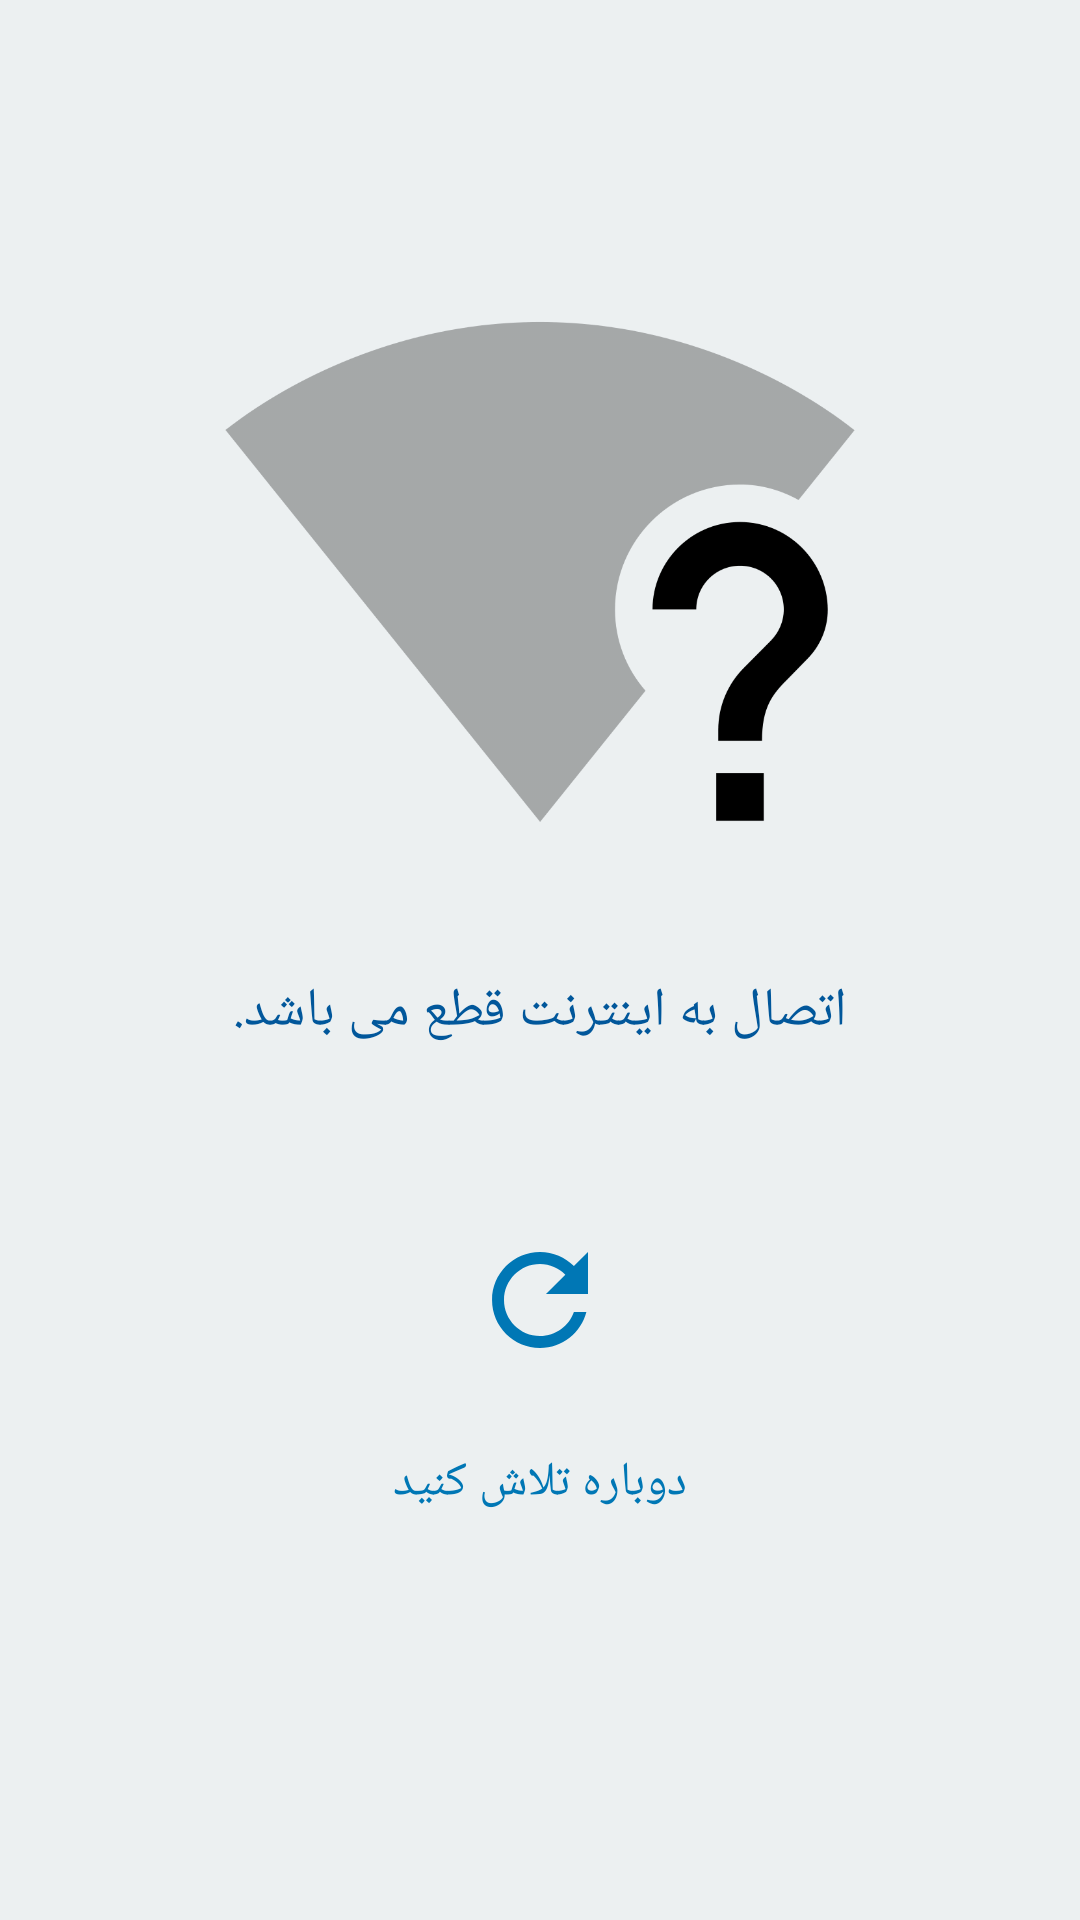

Screen size 1080px x 1920px. Icon name, then its center in pixels as (x,y):
refresh: (540,1300)
